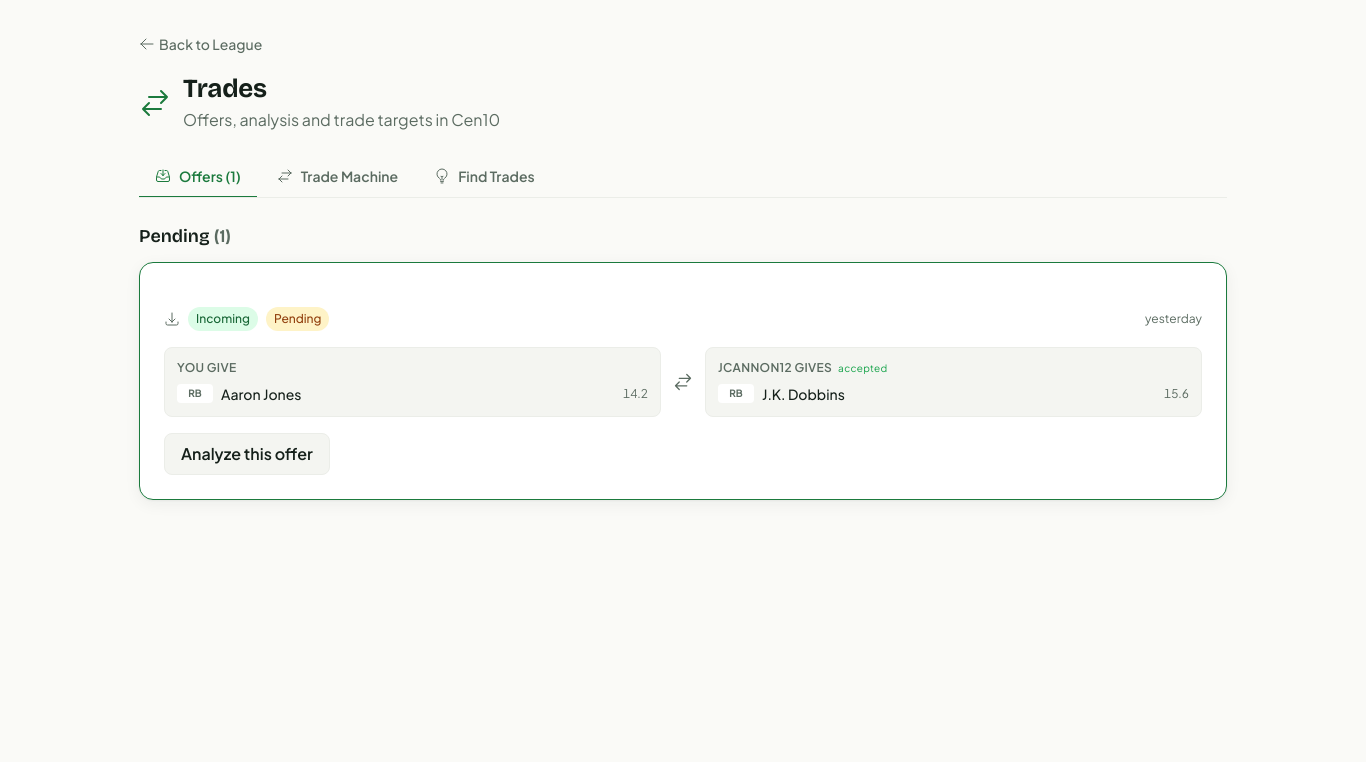
Test case: Trade machine › shows the AI read below the computed numbers
The width and height of the screenshot is (1366, 762).
Click the button "Analyze this offer" at (247, 454), box [164,433,330,475]
(page scrolled)
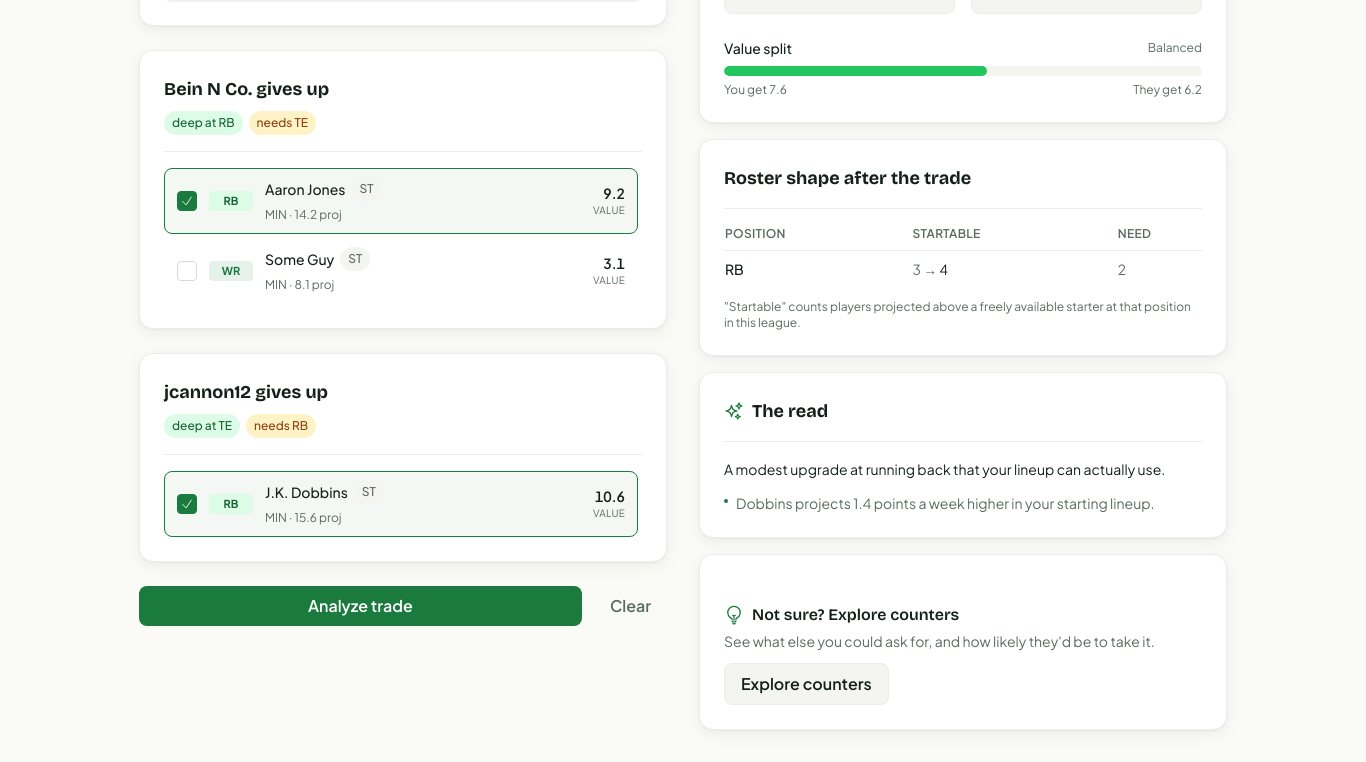
Result: the text "modest upgrade at running back" is shown at [724,460,1165,478]
Result: the list item "projects 1.4 points a week higher" is shown at [736,494,1154,512]
